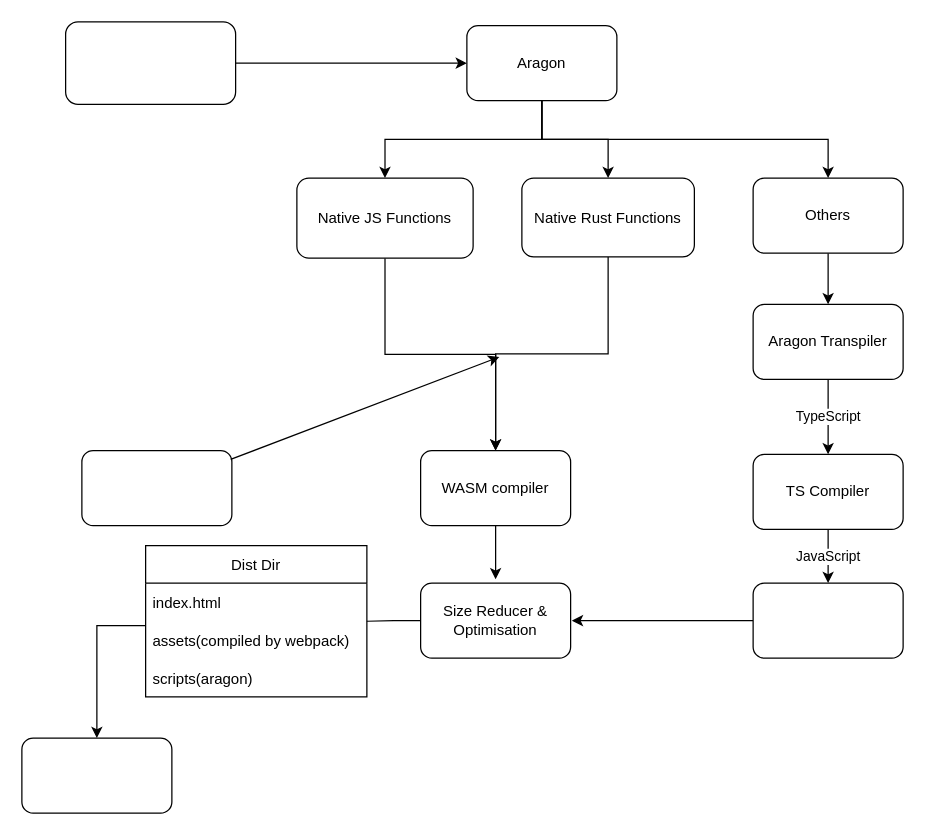
Image size: 925x835. Some labels were removed from this diagram. Each missing label, with the centre of its shape:
Code Formatters: (x=156, y=487)
Final Built Code: (x=96, y=775)
Final JS Code: (x=827, y=620)
Rust source code: (x=150, y=62)
